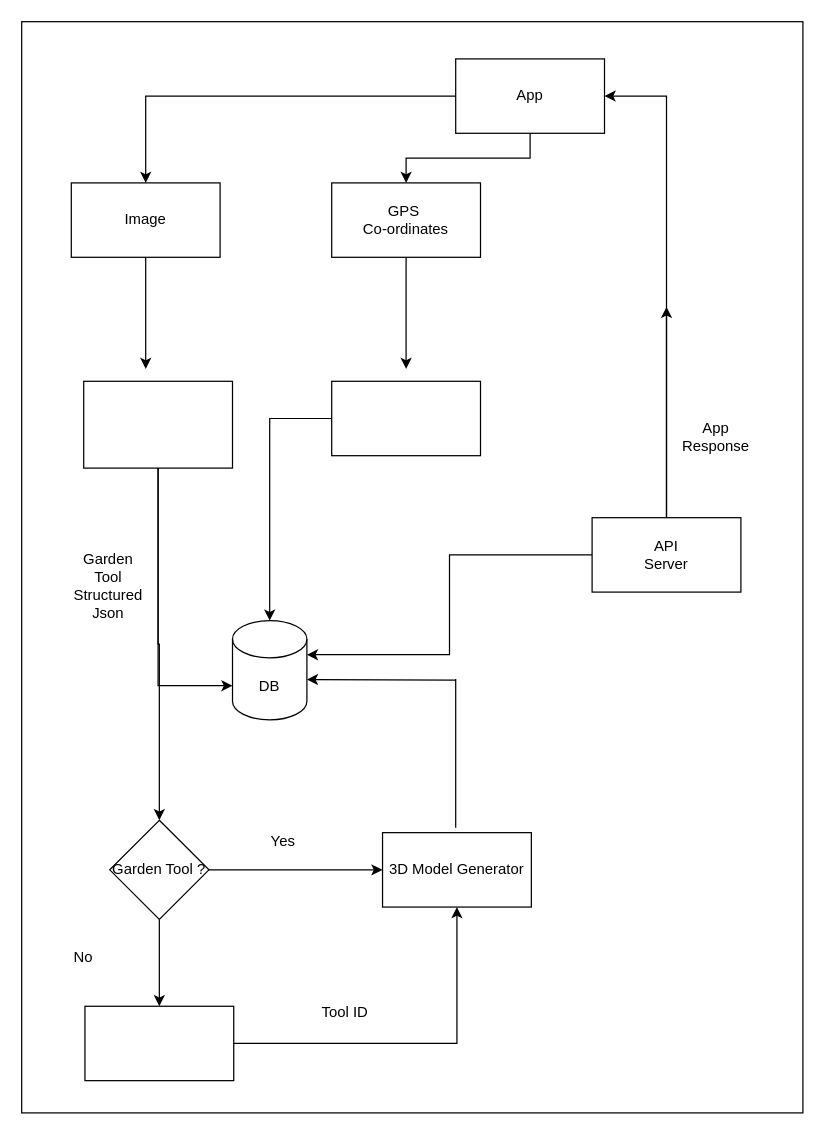
Some shapes in this 825 by 1135 pixel diagram are drawn without their labels. The shapes that lost their labels are listed below. From the top down, each one's centre as x and y in pixels, then its label:
At [157,424]: "Vision Model".
At [405,418]: "Geo Fence".
At [159,1043]: "YOLO Garden Tools".
